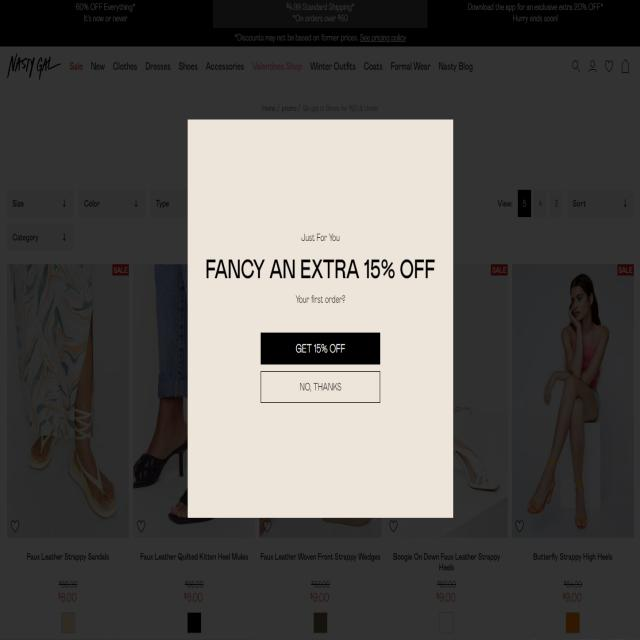sneaking: (185, 112, 458, 519)
